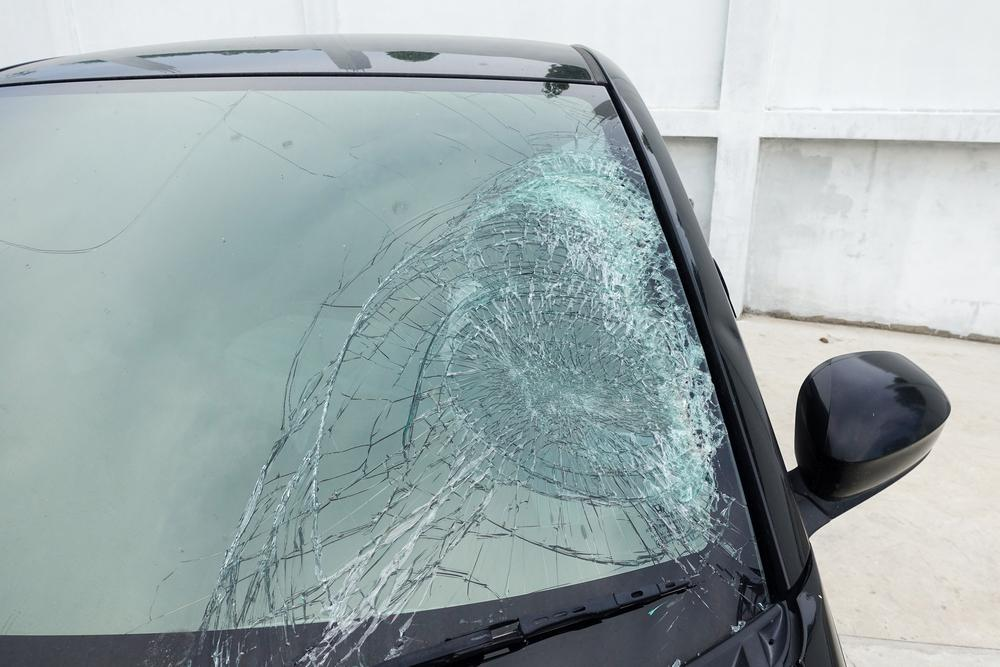glass shatter: (0, 73, 771, 667)
